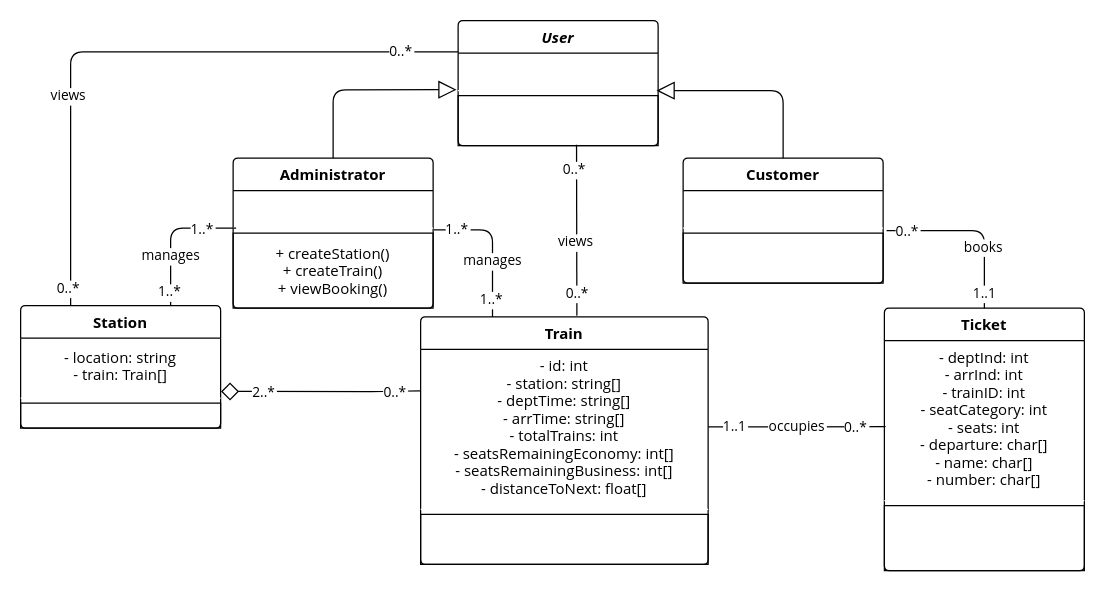
Image size: 1105x591. Some labels were removed from this diagram. Here are the shapes that lost their labels. From the top down, the centre of each, then its label:
At point (557, 120): "+ viewTimeTable() + viewBooking()".
At point (782, 257): "+ bookTicket() + viewBooking()".
At point (563, 538): "+ occupySeat() + getDistanceBetween()".
At point (983, 537): "+ store() + read() + bookSeats()".
